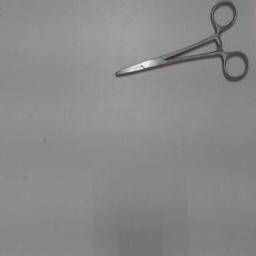Mayo Needle Holder: (108, 0, 252, 88)
